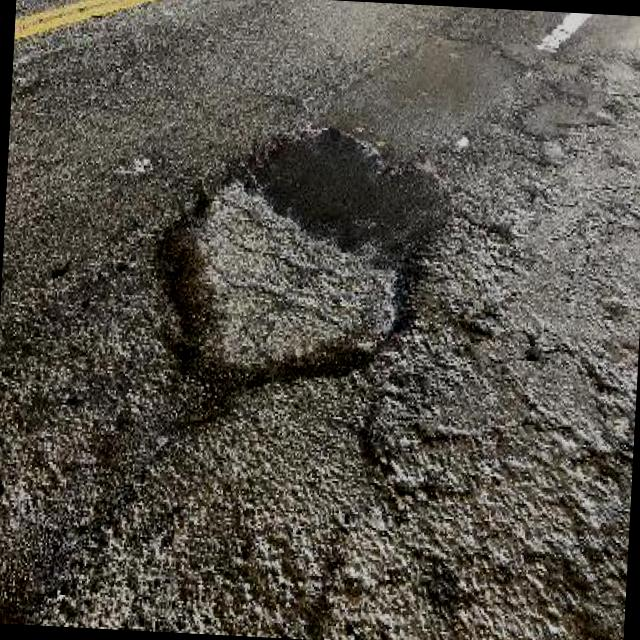pothole: (142, 108, 456, 440)
